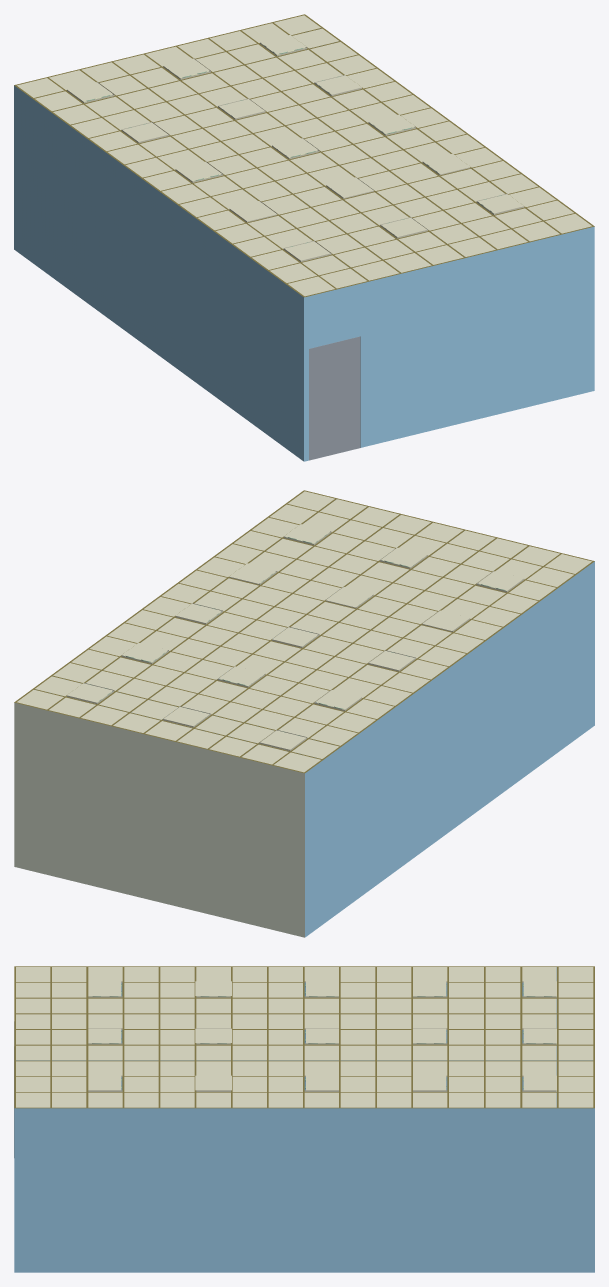
Rendered from classroom.fbx.
3 renders of one model, top to bottom at view 1: azimuth 30°, elevation 25°; view 2: azimuth 150°, elevation 25°; view 3: azimuth 270°, elevation 25°, orthographic.
Parts seen in each view (by area): view 1: 3 walls, ceiling, ceiling cells, lamps top, door; view 2: ceiling, main wall, 3 walls, ceiling cells, lamps top; view 3: 3 walls, ceiling, ceiling cells, lamps top.
Part boxes in pixels (<box>): 3 walls: <box>14,83,594,461</box>; ceiling: <box>17,15,591,296</box>; ceiling cells: <box>14,14,594,297</box>; lamps top: <box>67,35,523,260</box>; door: <box>309,336,360,460</box>; ceiling: <box>17,491,591,772</box>; main wall: <box>14,702,304,937</box>; 3 walls: <box>112,560,594,937</box>; ceiling cells: <box>14,490,594,773</box>; lamps top: <box>67,524,523,749</box>; 3 walls: <box>14,967,594,1272</box>; ceiling: <box>16,967,593,1107</box>; ceiling cells: <box>14,966,594,1108</box>; lamps top: <box>88,981,556,1090</box>.
Size of the model in its own units: 638 by 347 by 1101.
